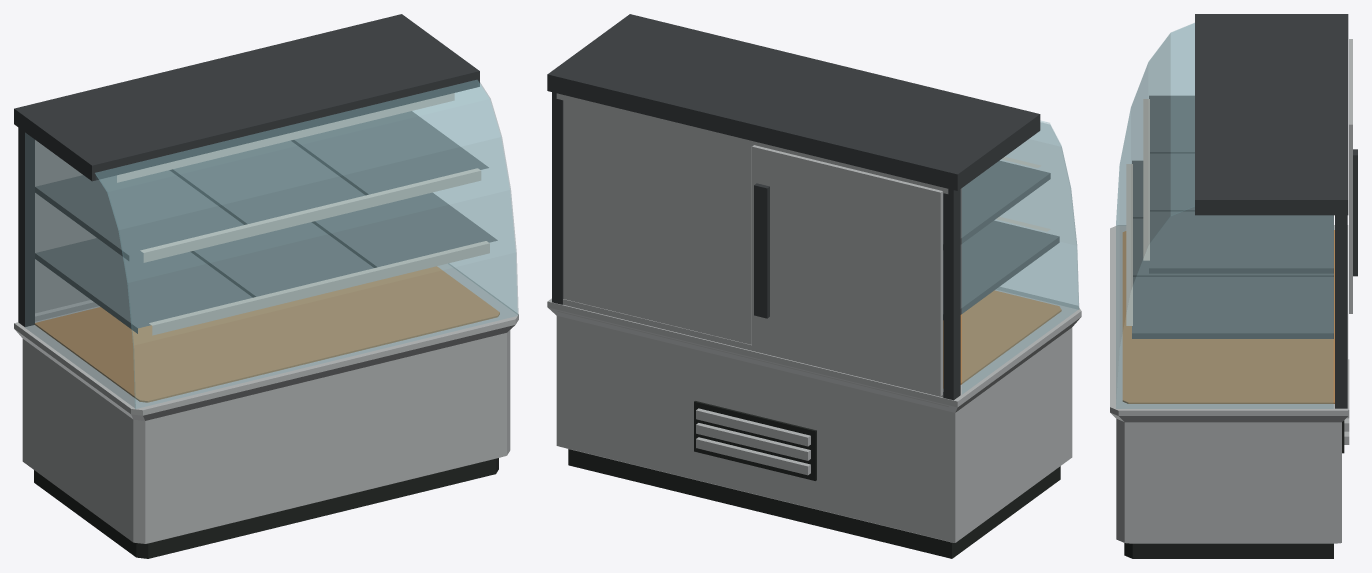
Rendered from pastry-display-case-8bcce5.glb.
The picture shows the model from 3 angles, left to right: view 1: azimuth 30°, elevation 25°; view 2: azimuth 150°, elevation 25°; view 3: azimuth 270°, elevation 25°; orthographic projection. The views are drawn at different scales.
Visible parts, largest first — view 1: pastry-display-case, case-glass, shelves, rear-panel; view 2: pastry-display-case, rear-panel, case-glass, shelves; view 3: pastry-display-case, case-glass, shelves, rear-panel.
Boxes of the visible parts, bbox=[...] form: pastry-display-case: bbox=[14, 14, 518, 558]; case-glass: bbox=[25, 80, 518, 408]; shelves: bbox=[35, 111, 497, 335]; rear-panel: bbox=[35, 140, 96, 313]; pastry-display-case: bbox=[547, 14, 1081, 558]; rear-panel: bbox=[752, 145, 942, 396]; case-glass: bbox=[962, 120, 1079, 394]; shelves: bbox=[943, 157, 1059, 319]; pastry-display-case: bbox=[1110, 14, 1349, 558]; case-glass: bbox=[1116, 23, 1333, 408]; shelves: bbox=[1126, 95, 1333, 338]; rear-panel: bbox=[1349, 39, 1357, 313].
Bounding box in the file's own units: 1.55 × 1.42 × 0.874.
